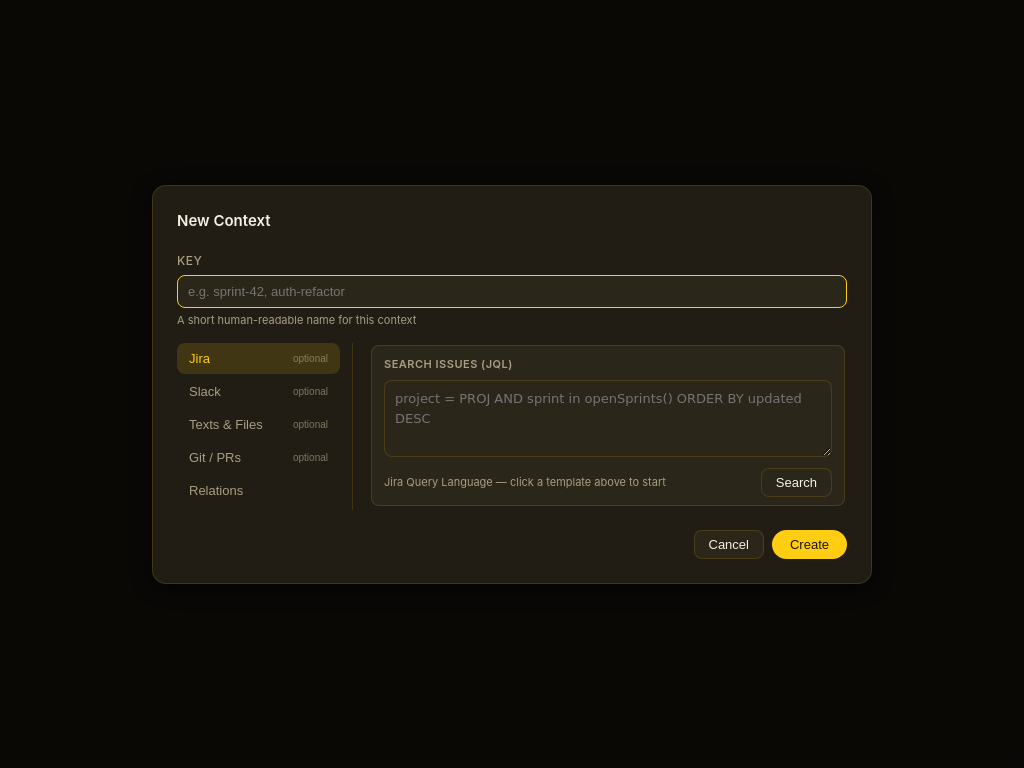
Scenario: ContextForm — Files tab (creation mode) › upload button is enabled when creating a new context
What coordinates should you click on to do the following:
click the button "Texts & Files optional"
I would click on:
 (258, 424)
Its box is [177, 408, 340, 440].
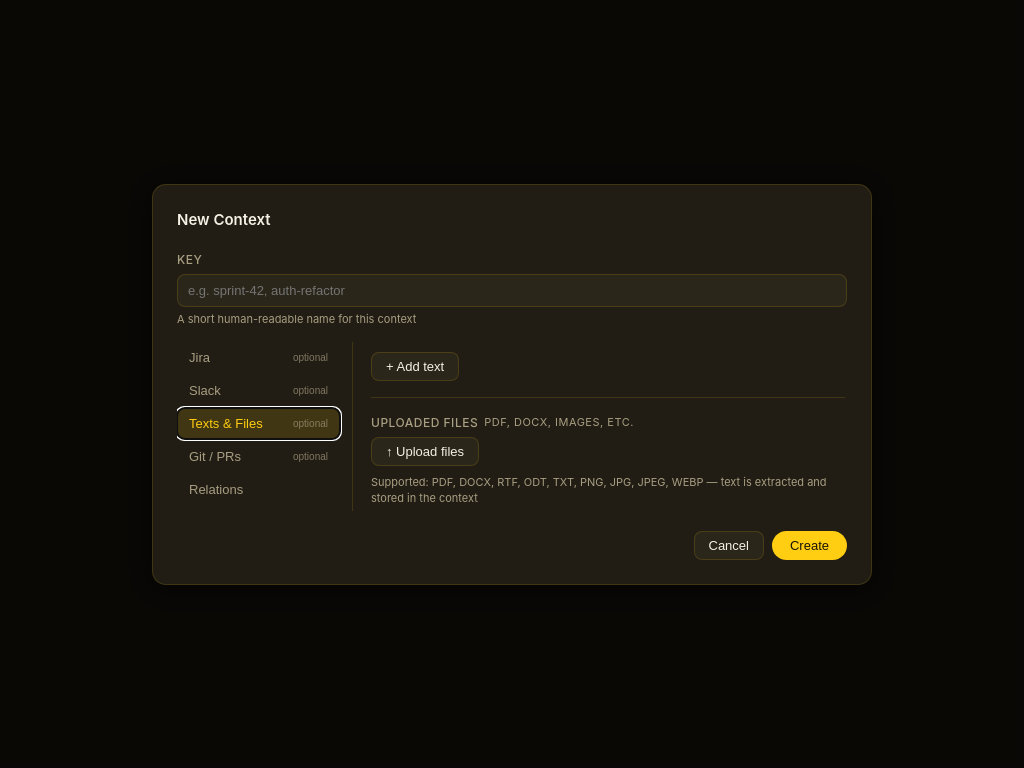
Check: the button "↑ Upload files" is enabled, box [371, 436, 479, 466]
